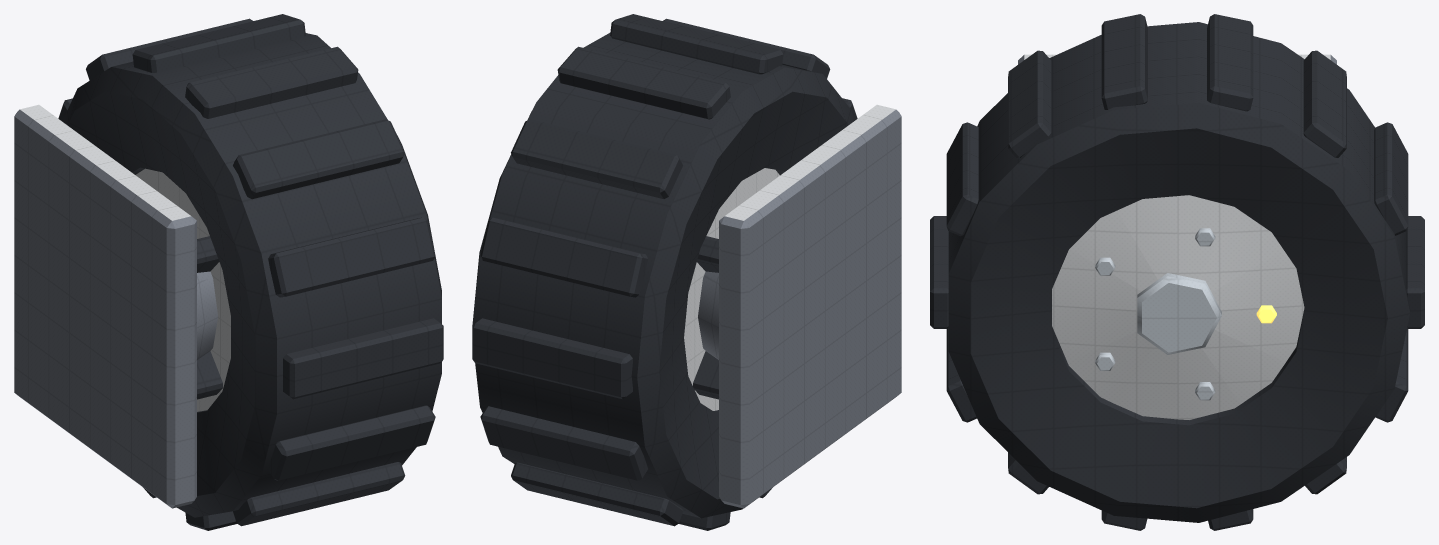
File: R4M_WheelM_Side_Offroad_LOD1.glb
3 renders of one model, left to right at view 1: azimuth 30°, elevation 25°; view 2: azimuth 150°, elevation 25°; view 3: azimuth 270°, elevation 25°, orthographic.
Parts seen in each view (by area): view 1: R4M_WheelM_Side_Offroad_LOD1; view 2: R4M_WheelM_Side_Offroad_LOD1; view 3: R4M_WheelM_Side_Offroad_LOD1.
Boxes of the visible parts, x1,y1,x2,y2 form: R4M_WheelM_Side_Offroad_LOD1: (14, 14, 443, 530); R4M_WheelM_Side_Offroad_LOD1: (472, 14, 901, 530); R4M_WheelM_Side_Offroad_LOD1: (930, 14, 1424, 530).
Size of the model in its own units: 0.452 by 0.7695 by 0.776.
Materials: 5 (4 with a texture image).
